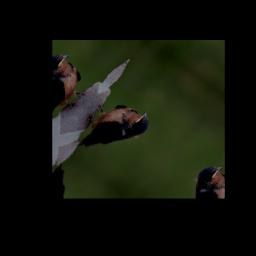Swallow: (66, 88, 158, 170)
